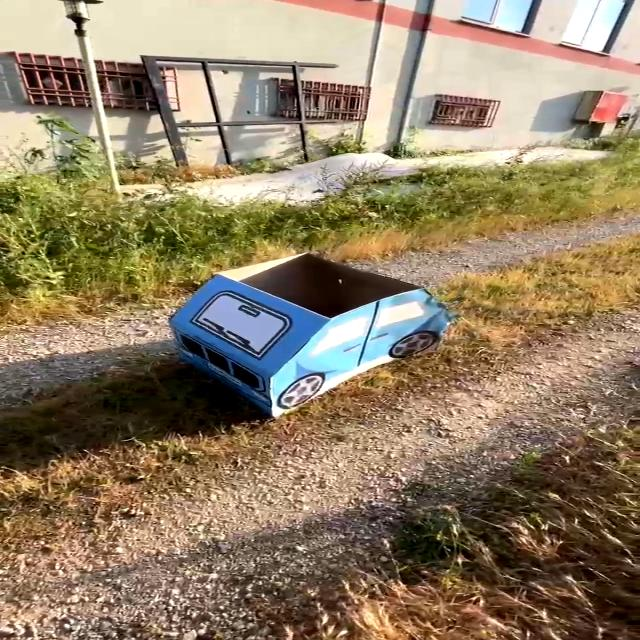blue_car: (152, 253, 477, 446)
